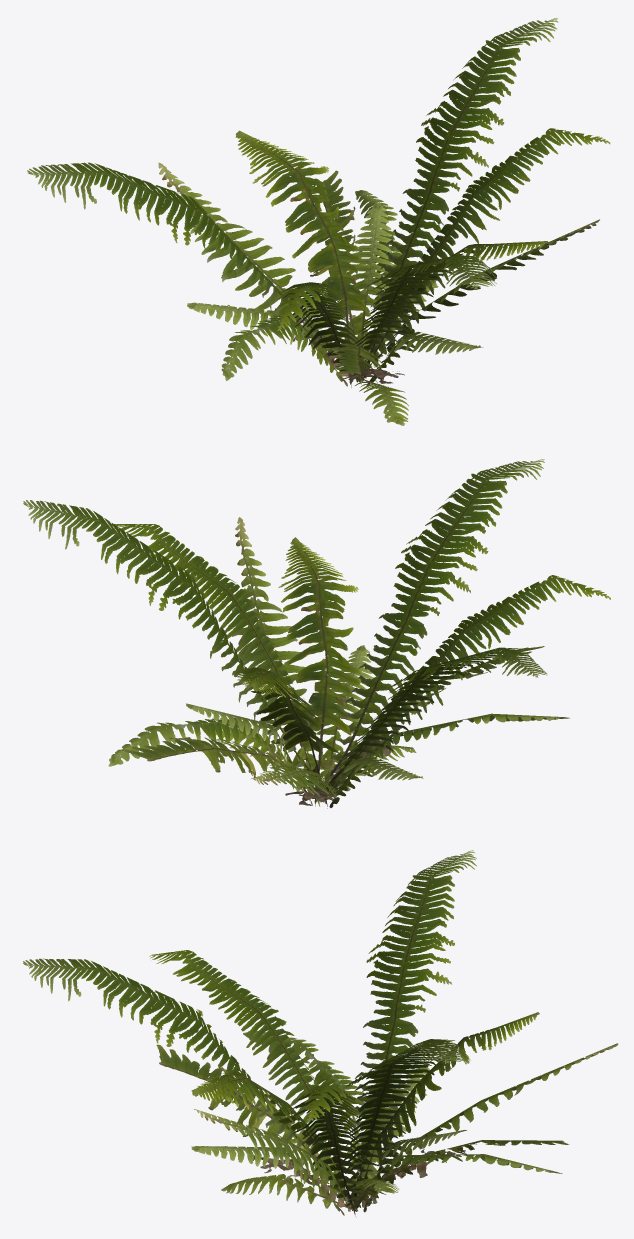
Rendered from fern.glb.
3 views of the same model, one above another, from view 1: azimuth 30°, elevation 25°; view 2: azimuth 150°, elevation 25°; view 3: azimuth 270°, elevation 25° (orthographic). The views are drawn at different scales.
Parts seen in each view (by area): view 1: Object_2; view 2: Object_2; view 3: Object_2.
Boxes of the visible parts, <box> form: Object_2: <box>27,18,610,425</box>; Object_2: <box>23,459,610,808</box>; Object_2: <box>23,850,618,1217</box>.
Bounding box in the file's own units: 2.23 × 1.1 × 2.19.
1 material, 1 textured.
